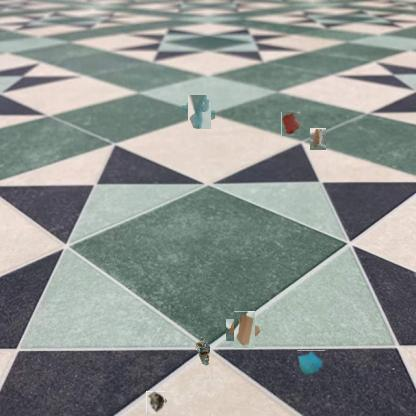dirty: (230, 315, 259, 345), (298, 350, 326, 375), (193, 334, 213, 366), (145, 392, 166, 413), (310, 128, 326, 150)
liquid: (184, 98, 214, 126), (281, 112, 300, 136)
